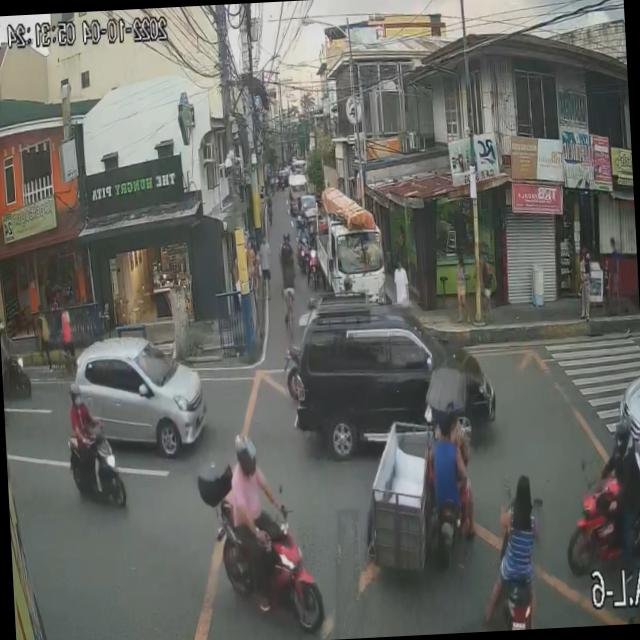full: (234, 431, 258, 480), (613, 422, 632, 456)
half: (70, 386, 83, 412)
not_wearing: (514, 472, 533, 513)
